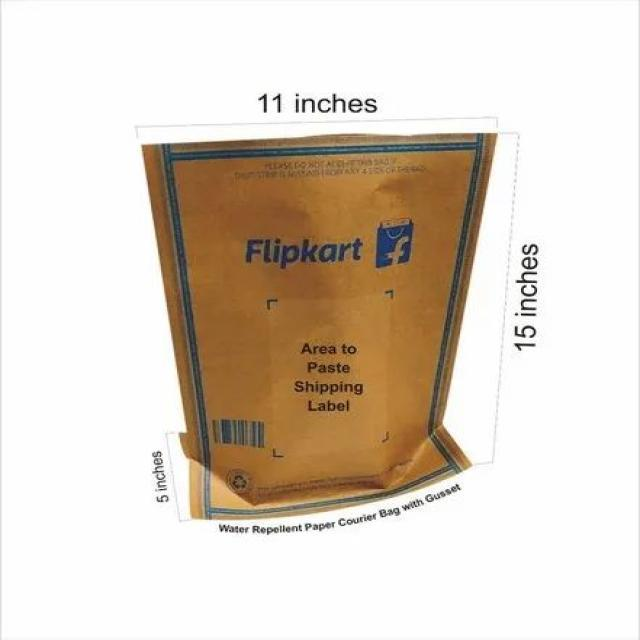cardboxes: (128, 132, 521, 548)
